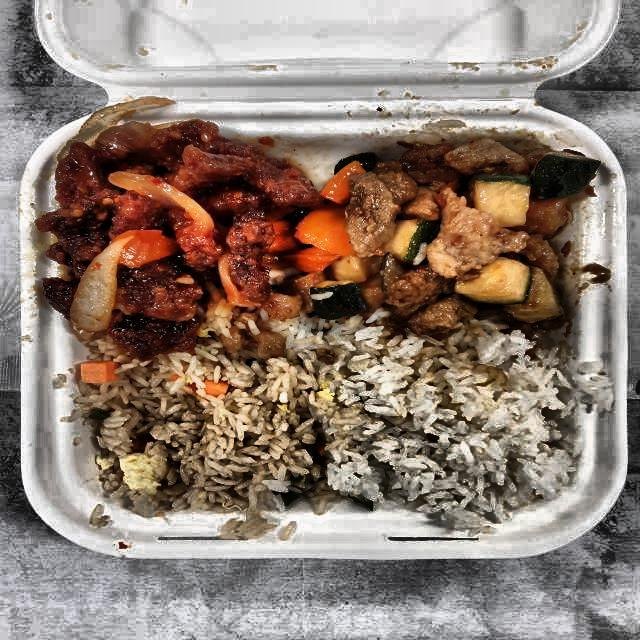Food: (37, 106, 311, 349), (316, 134, 598, 346), (337, 338, 588, 530), (75, 338, 336, 522)
